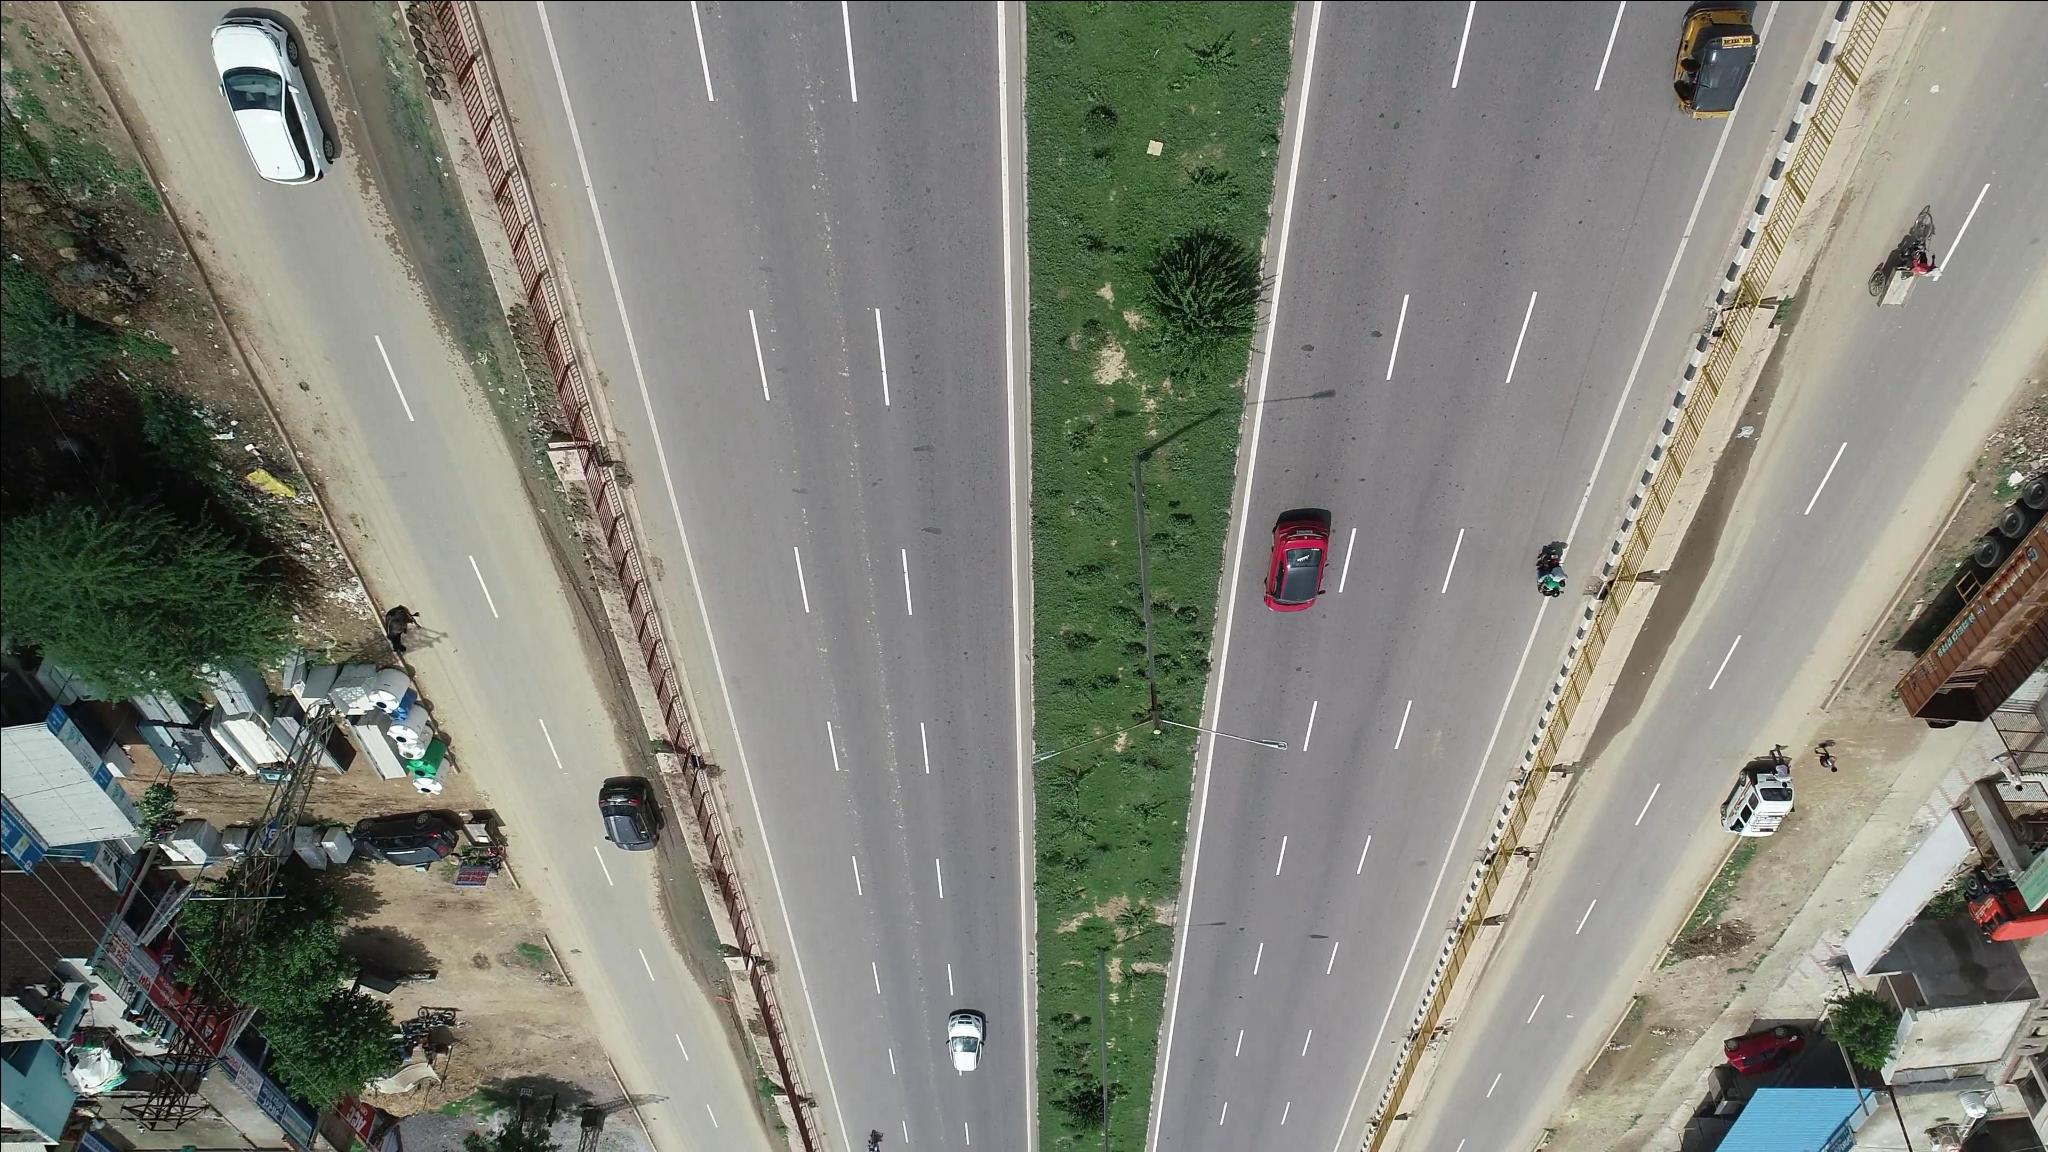Waterlogging: (1640, 518, 1730, 660)
